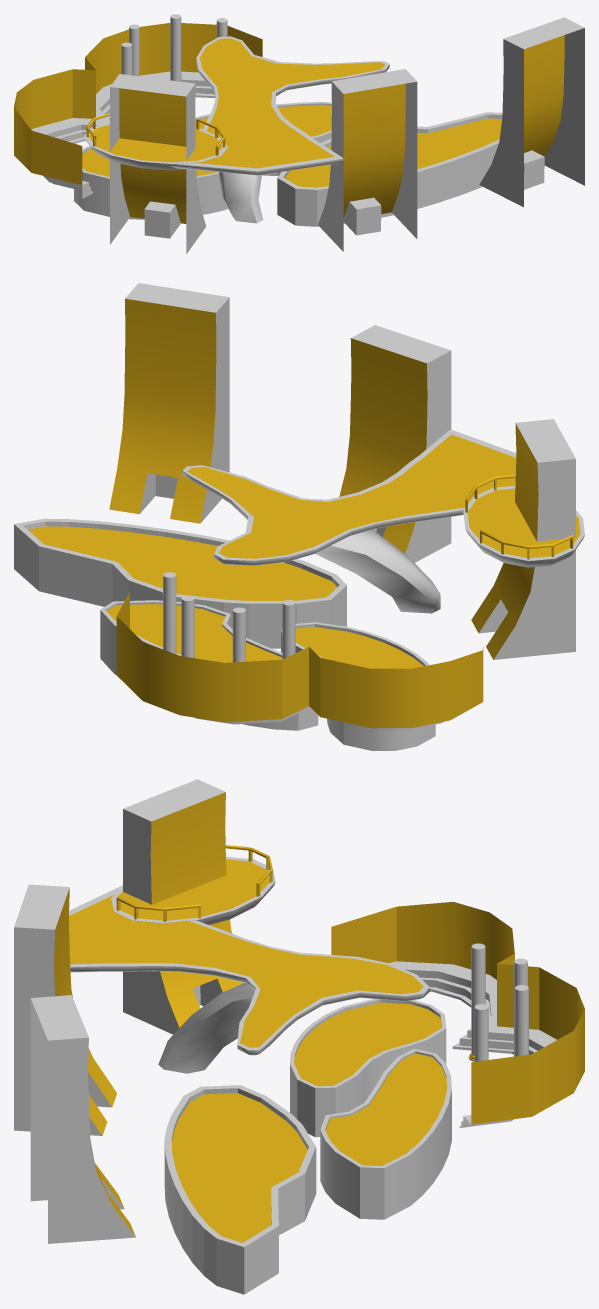
The model's file is LevelChunk_1.fbx.
The picture shows the model from 3 angles, top to bottom: view 1: azimuth 30°, elevation 25°; view 2: azimuth 150°, elevation 25°; view 3: azimuth 270°, elevation 25°; orthographic projection. The views are drawn at different scales.
Visible parts, largest first — view 1: BézierCurve, Stairs, Plane.002, Plane.001, WallInset, Vat_3, ViewingPlatform, Vat_1, Vat_2, Column_3, Railing.001, Column_2 (+1 smaller); view 2: BézierCurve, Plane.002, Stairs, Vat_3, Plane.001, WallInset, Vat_2, Vat_1, ViewingPlatform, Column_4, Railing.001, Column_3 (+2 smaller); view 3: BézierCurve, Stairs, Vat_3, Vat_2, Plane.002, WallInset, Vat_1, Plane.001, ViewingPlatform, Column_1, Railing.001, Column_3 (+1 smaller).
Boxes of the visible parts, <box> form: BézierCurve: <box>170,36,389,223</box>; Stairs: <box>14,23,262,198</box>; Plane.002: <box>479,17,584,207</box>; Plane.001: <box>318,69,417,251</box>; WallInset: <box>110,74,206,253</box>; Vat_3: <box>277,112,502,226</box>; ViewingPlatform: <box>83,122,227,170</box>; Vat_1: <box>74,146,227,219</box>; Vat_2: <box>195,102,331,176</box>; Column_3: <box>170,14,181,81</box>; Railing.001: <box>86,113,225,155</box>; Column_2: <box>129,24,139,76</box>; BézierCurve: <box>182,429,516,613</box>; Plane.002: <box>109,283,229,523</box>; Stairs: <box>116,591,483,729</box>; Vat_3: <box>14,518,346,648</box>; Plane.001: <box>339,325,451,562</box>; WallInset: <box>471,419,575,659</box>; Vat_2: <box>100,600,318,730</box>; Vat_1: <box>281,622,435,750</box>; ViewingPlatform: <box>463,485,584,567</box>; Column_4: <box>163,572,176,654</box>; Railing.001: <box>465,475,573,559</box>; Column_3: <box>181,595,194,658</box>; BézierCurve: <box>68,885,429,1073</box>; Stairs: <box>331,901,584,1127</box>; Vat_3: <box>164,1085,316,1294</box>; Vat_2: <box>320,1049,451,1219</box>; Plane.002: <box>30,995,135,1243</box>; WallInset: <box>123,779,243,1034</box>; Vat_1: <box>290,999,446,1137</box>; Plane.001: <box>14,884,116,1135</box>; ViewingPlatform: <box>111,856,275,924</box>; Column_1: <box>468,943,485,1061</box>; Railing.001: <box>116,845,272,921</box>; Column_3: <box>515,985,528,1056</box>.
Size of what is drawn, in the model's own units: 62871 by 24973 by 53526.
